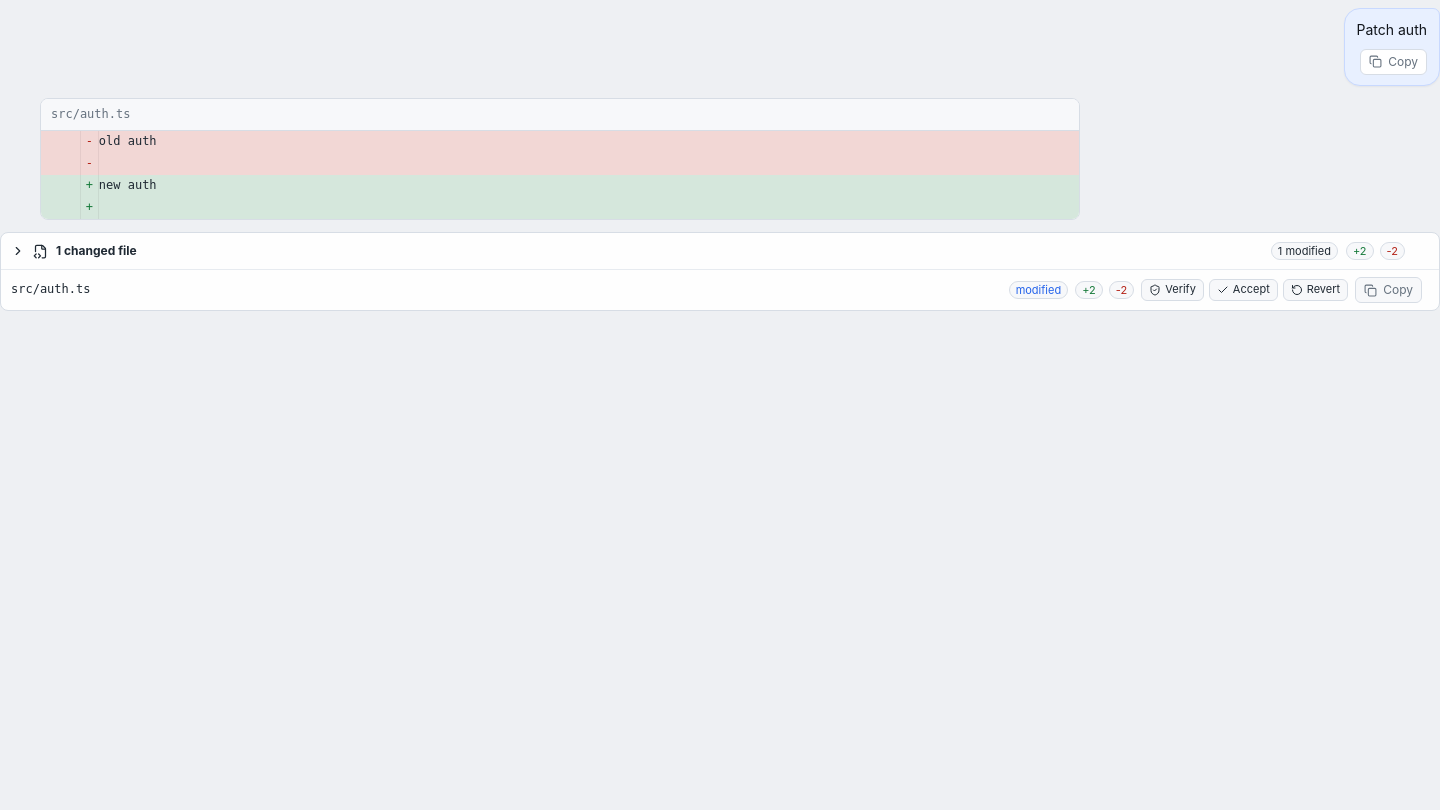
Test: ChatTimeline › supports accepting and reverting oldText-backed file changes
Click the button "Accept".
click(1243, 290)  # box [1209,280,1278,301]
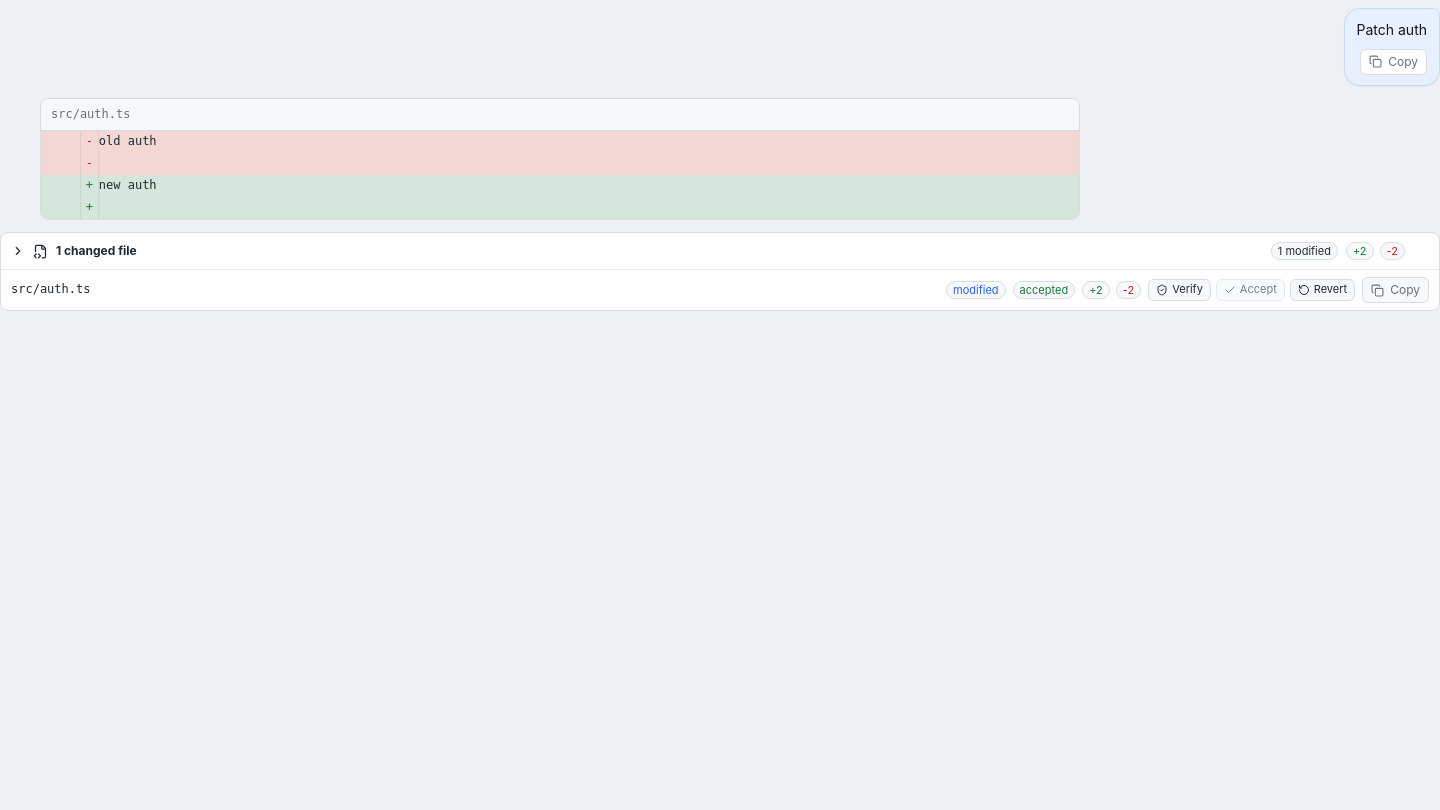
Now the text "accepted" is shown, box [1013,281,1075,299]
Click the button "Revert".
click(1322, 290)  # box [1290,280,1355,301]
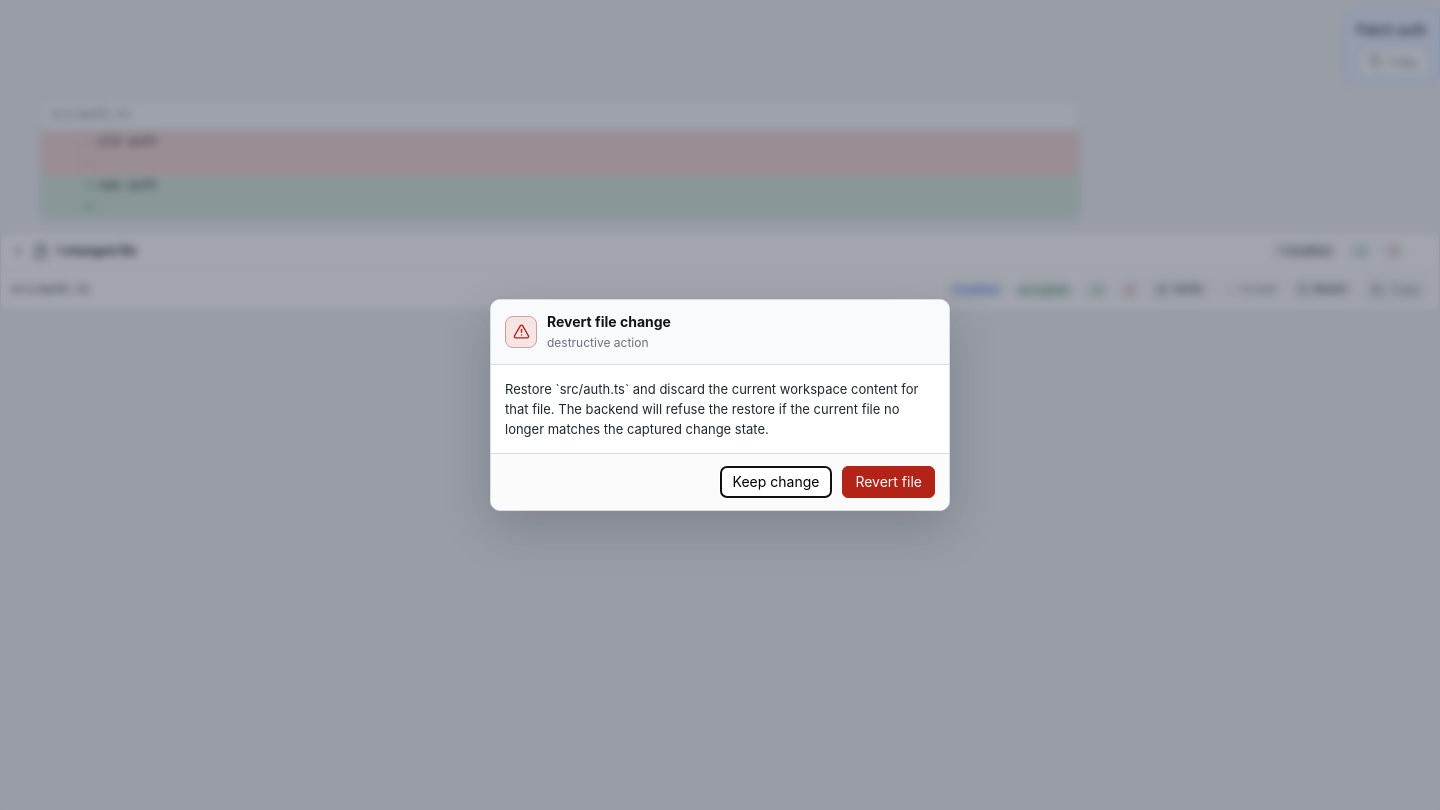
Now the dialog "Revert file change" is shown, box [490,299,950,511]
Click the button "Revert file".
click(889, 482)  # box [842,466,935,498]
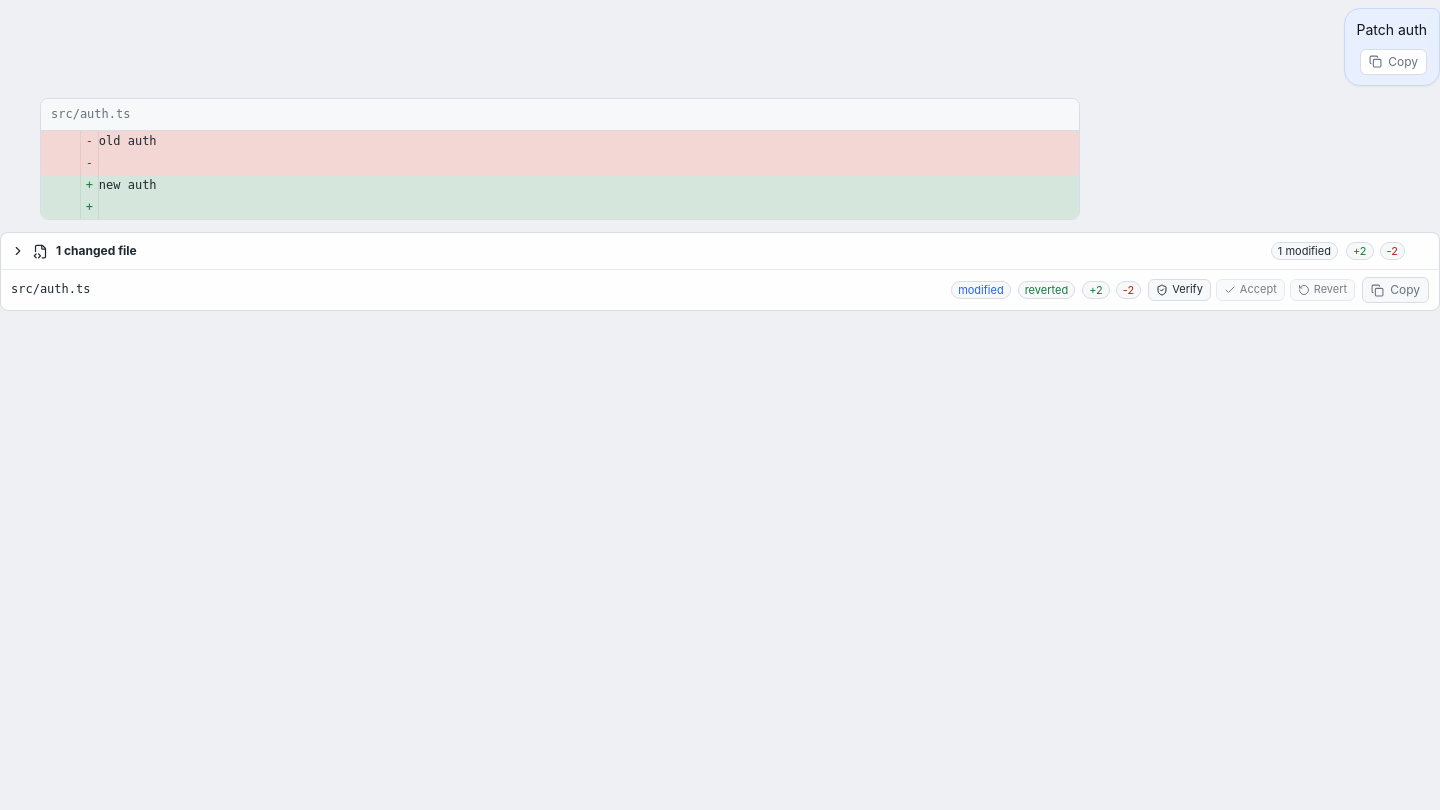
Now the text "reverted" is shown, box [1018,281,1075,299]
